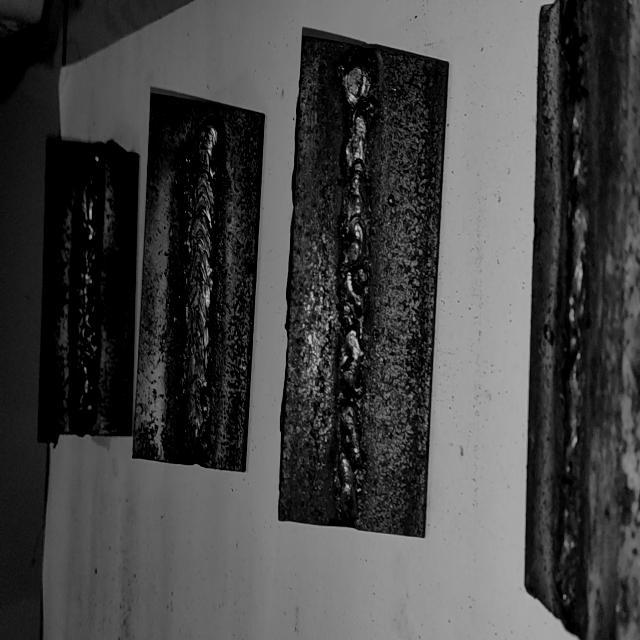Defect: (334, 60, 372, 512), (78, 160, 95, 422)
Welding Line: (337, 51, 372, 518), (184, 111, 222, 456), (71, 150, 101, 431)
Workpiece: (276, 24, 450, 550), (522, 1, 640, 640), (130, 83, 268, 480), (34, 134, 140, 452)
